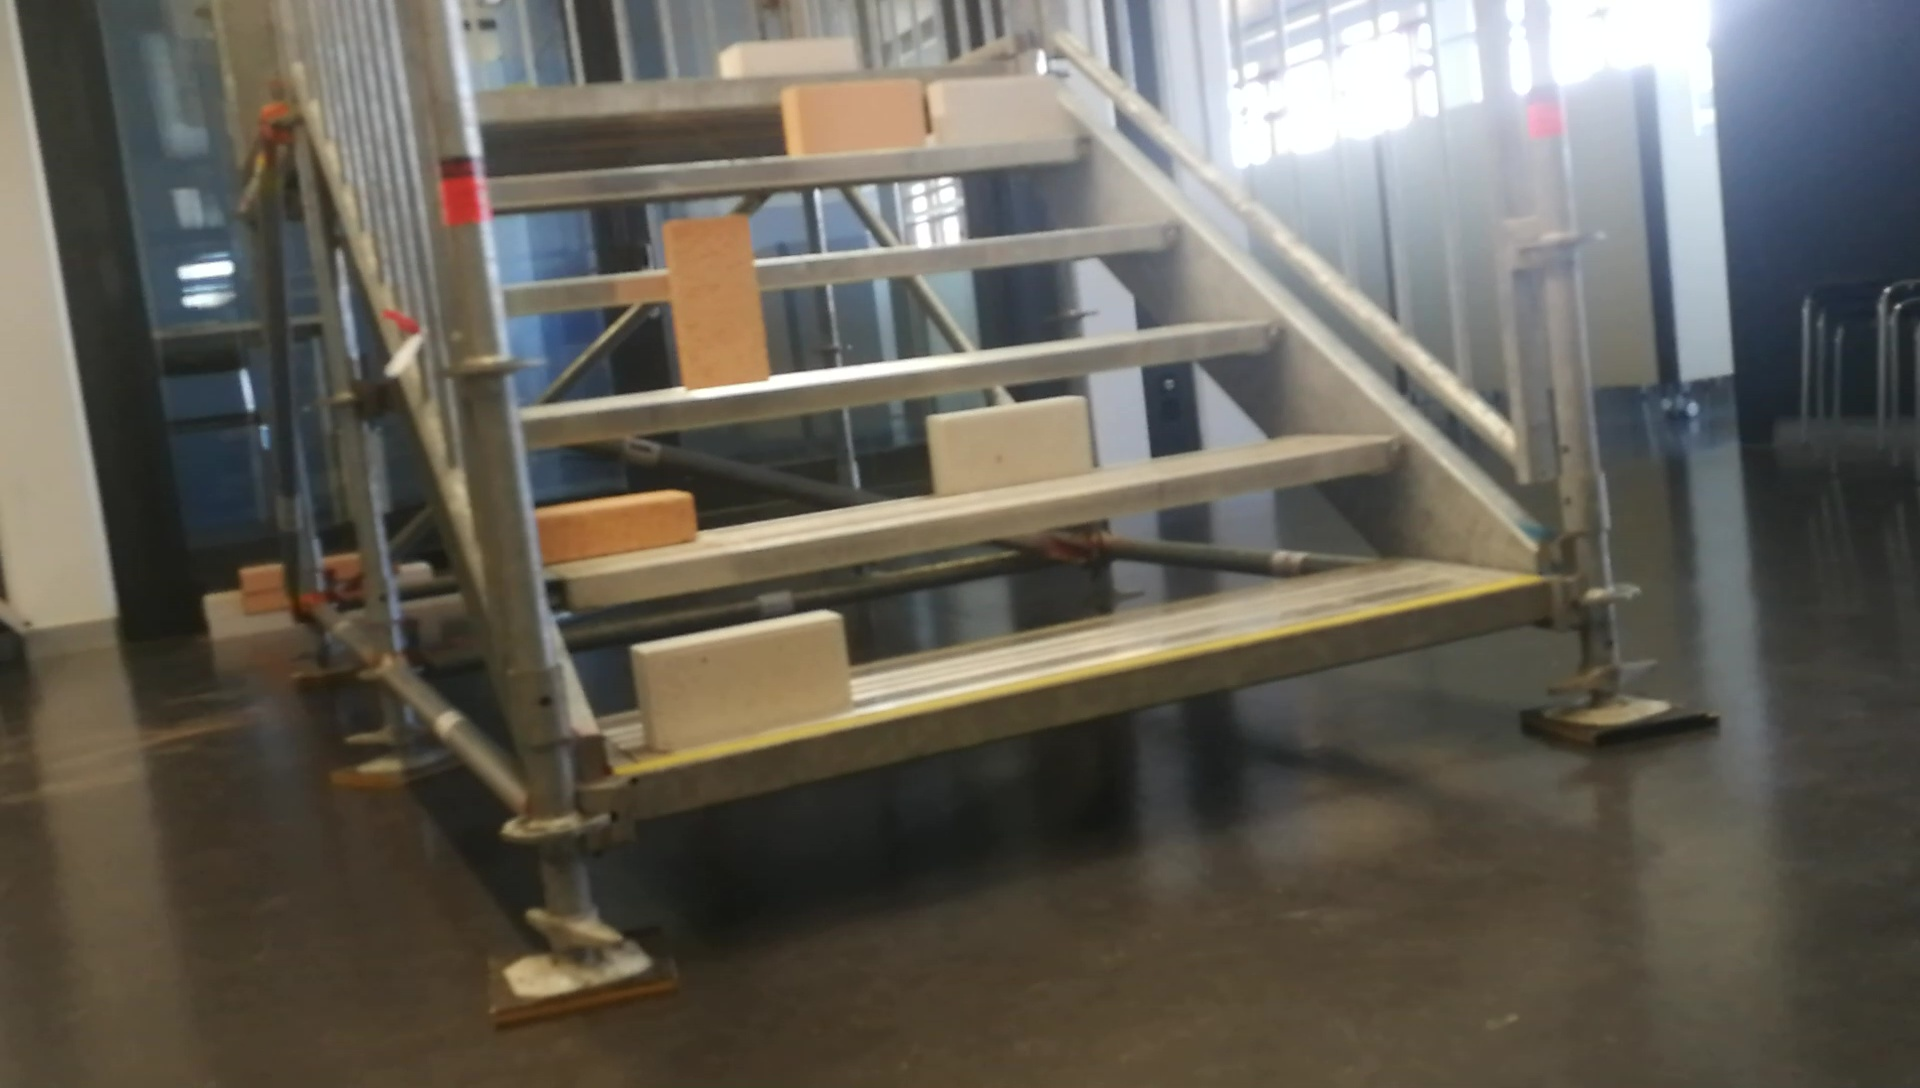brick: (633, 609, 849, 750), (662, 218, 770, 390), (930, 396, 1088, 495), (535, 488, 694, 563), (782, 83, 918, 153), (928, 75, 1050, 142), (720, 41, 852, 75)
edge: (636, 583, 1540, 814), (541, 438, 1404, 607), (521, 320, 1283, 433), (508, 218, 1183, 324), (485, 131, 1092, 204), (471, 69, 1027, 117)
stairs: (465, 3, 1721, 1033)
steps: (460, 32, 1560, 837)
